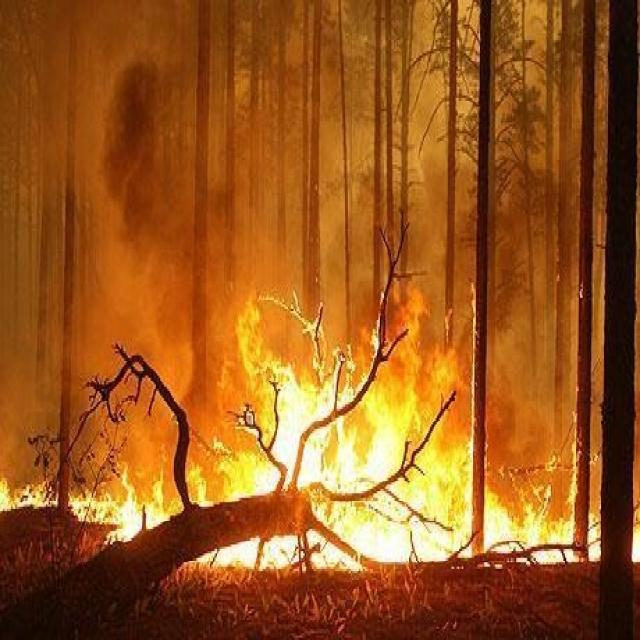Fire: (68, 282, 601, 576), (1, 474, 58, 516), (631, 502, 640, 564)
Smoke: (1, 2, 608, 489)
